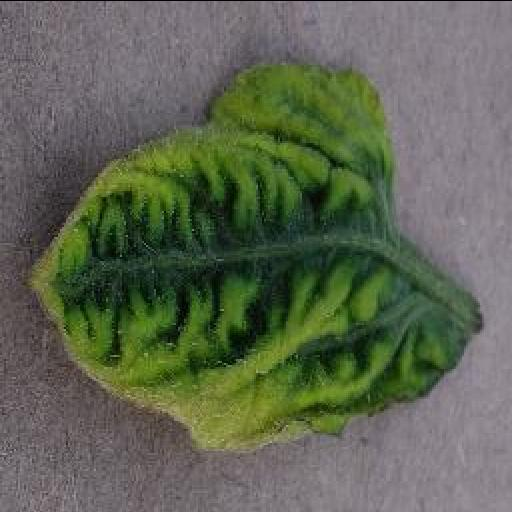disease_tomato: (27, 60, 481, 456)
